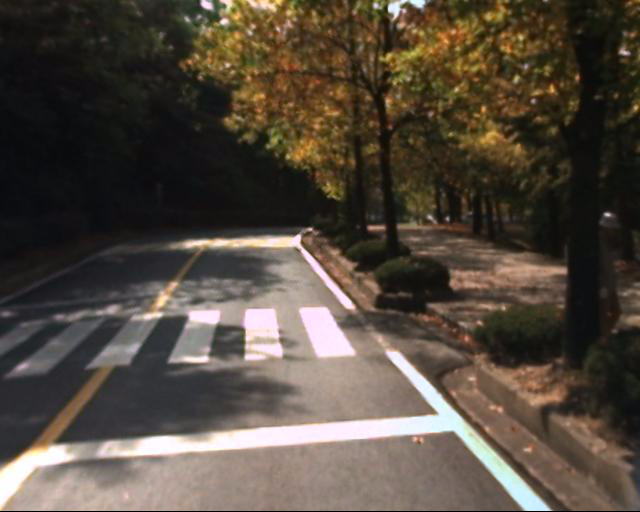person: (585, 204, 626, 352)
